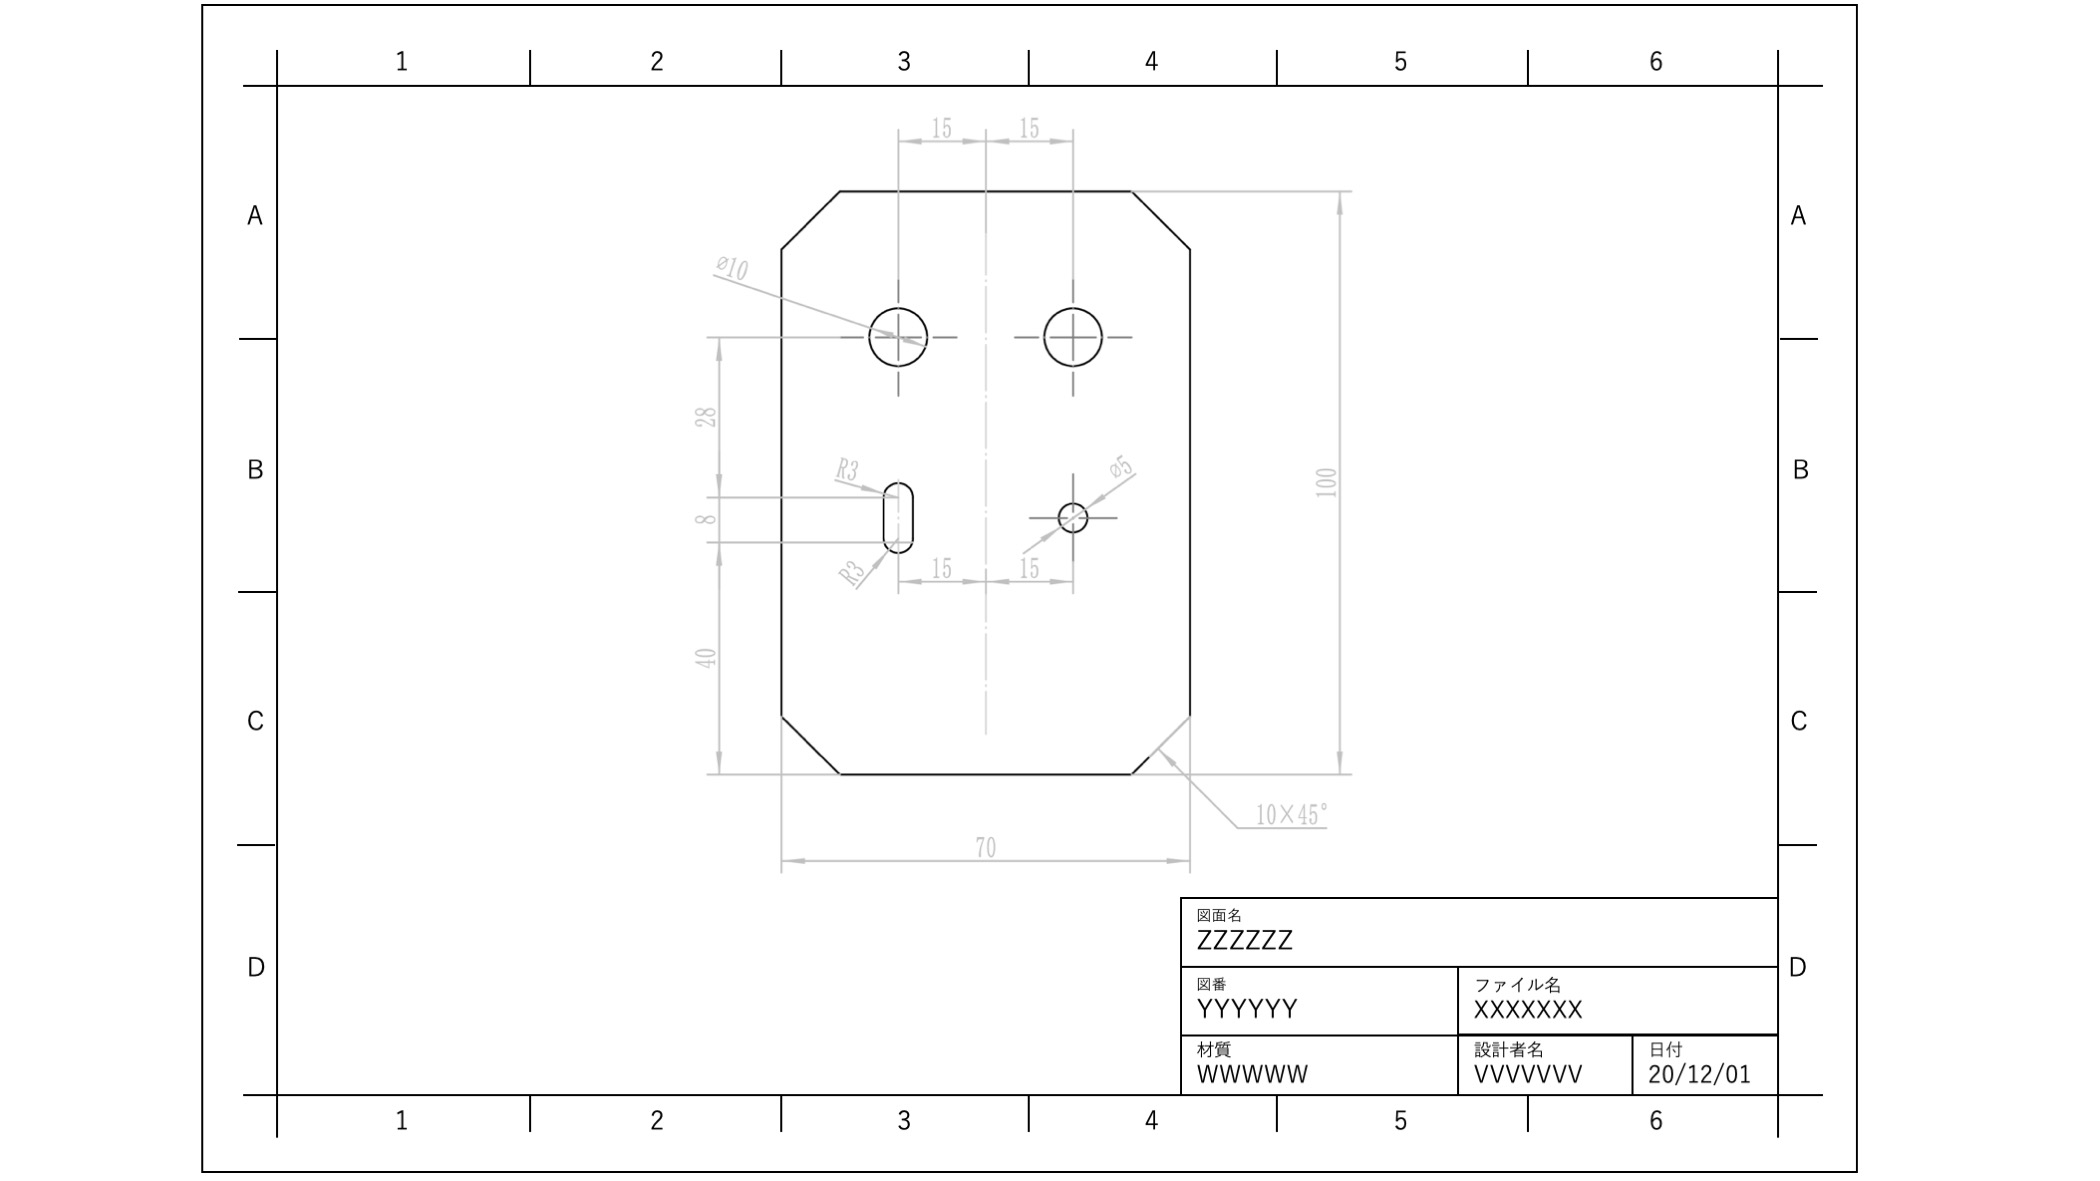circle: (1044, 297, 1124, 382), (862, 301, 935, 373), (1046, 486, 1099, 539)
round_rectangle: (878, 463, 922, 559)
